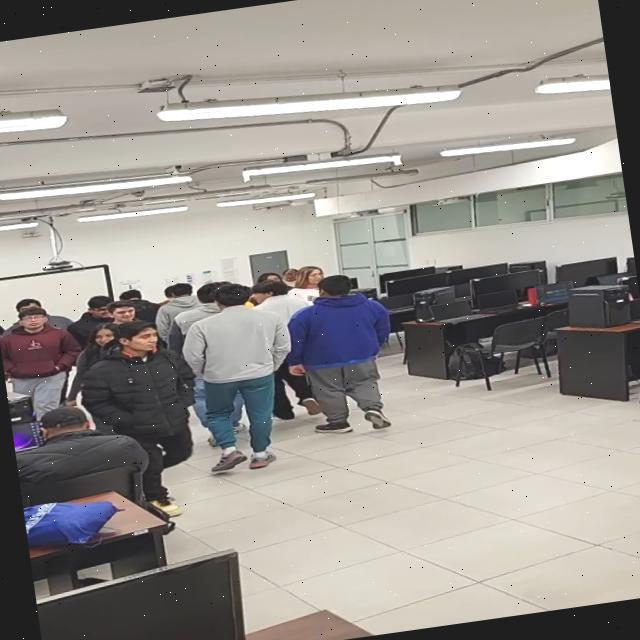Persona: (182, 276, 305, 480), (88, 315, 203, 527), (283, 268, 400, 444), (0, 303, 82, 416)
